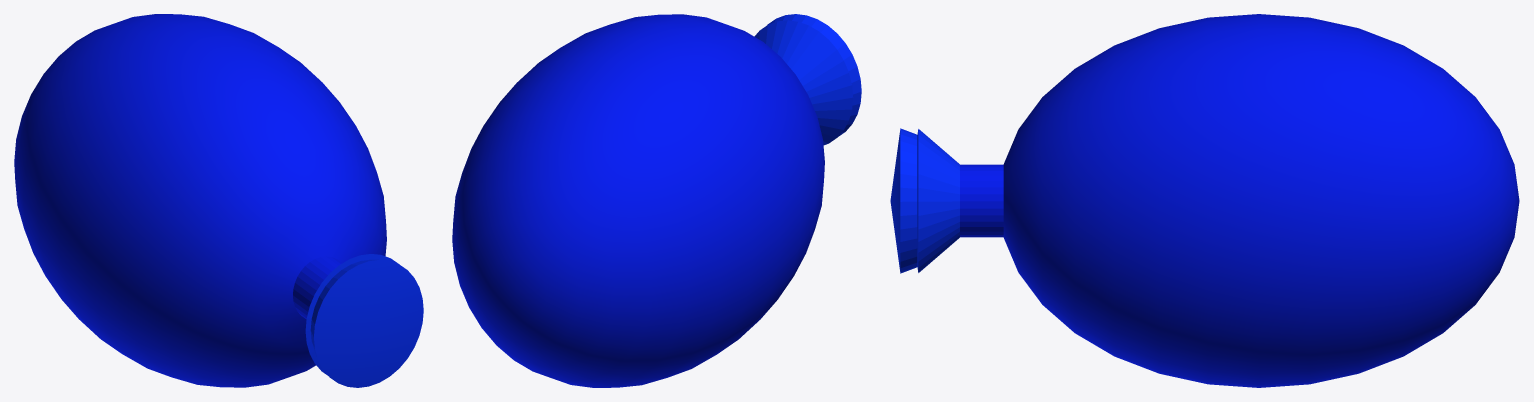
The model's file is Water Balloon.FBX.
The picture shows the model from 3 angles, left to right: view 1: azimuth 30°, elevation 25°; view 2: azimuth 150°, elevation 25°; view 3: azimuth 270°, elevation 25°; orthographic projection. The views are drawn at different scales.
Visible parts, largest first — view 1: WaterBalloon; view 2: WaterBalloon; view 3: WaterBalloon.
Part boxes in pixels (x1=…): WaterBalloon: x1=14, y1=14, x2=423, y2=387; WaterBalloon: x1=452, y1=14, x2=861, y2=387; WaterBalloon: x1=890, y1=14, x2=1519, y2=387.
Bounding box in the file's own units: 0.1511 × 0.1647 × 0.2731.
